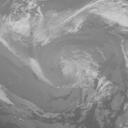cyclone: (54, 50, 99, 89)
